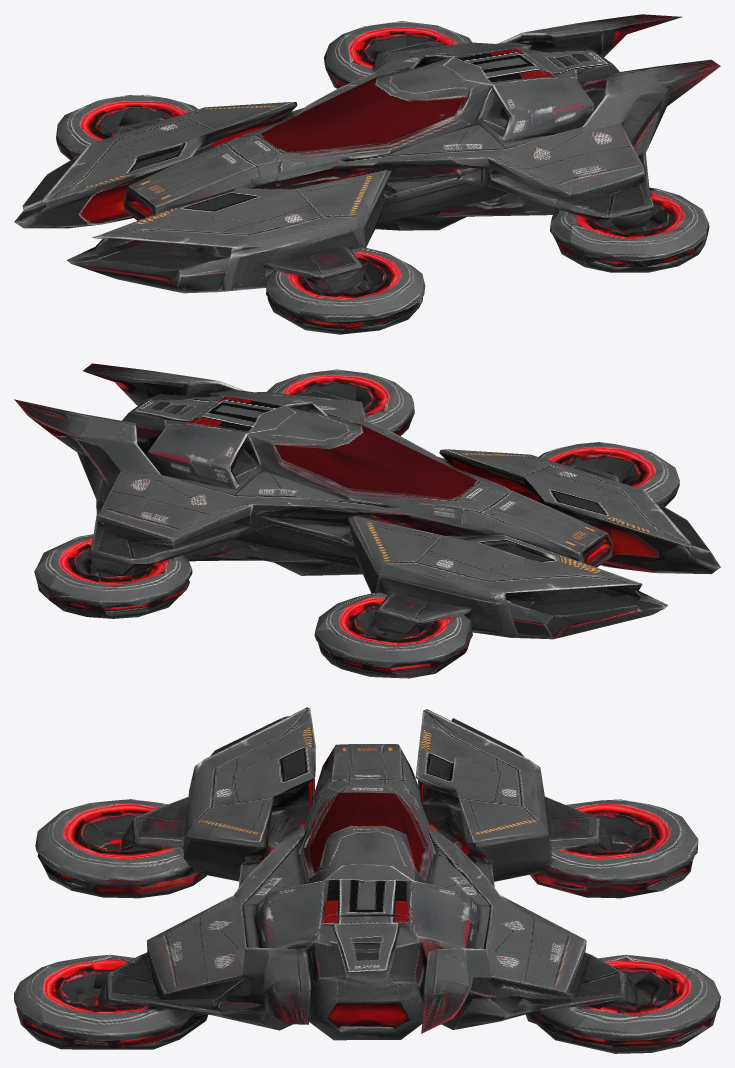
File: racer_optimized-team3.glb
The picture shows the model from 3 angles, top to bottom: view 1: azimuth 30°, elevation 25°; view 2: azimuth 150°, elevation 25°; view 3: azimuth 270°, elevation 25°; orthographic projection. The views are drawn at different scales.
Bounding box in the file's own units: 1.9 × 0.2907 × 1.52.
1 material, 1 textured.
